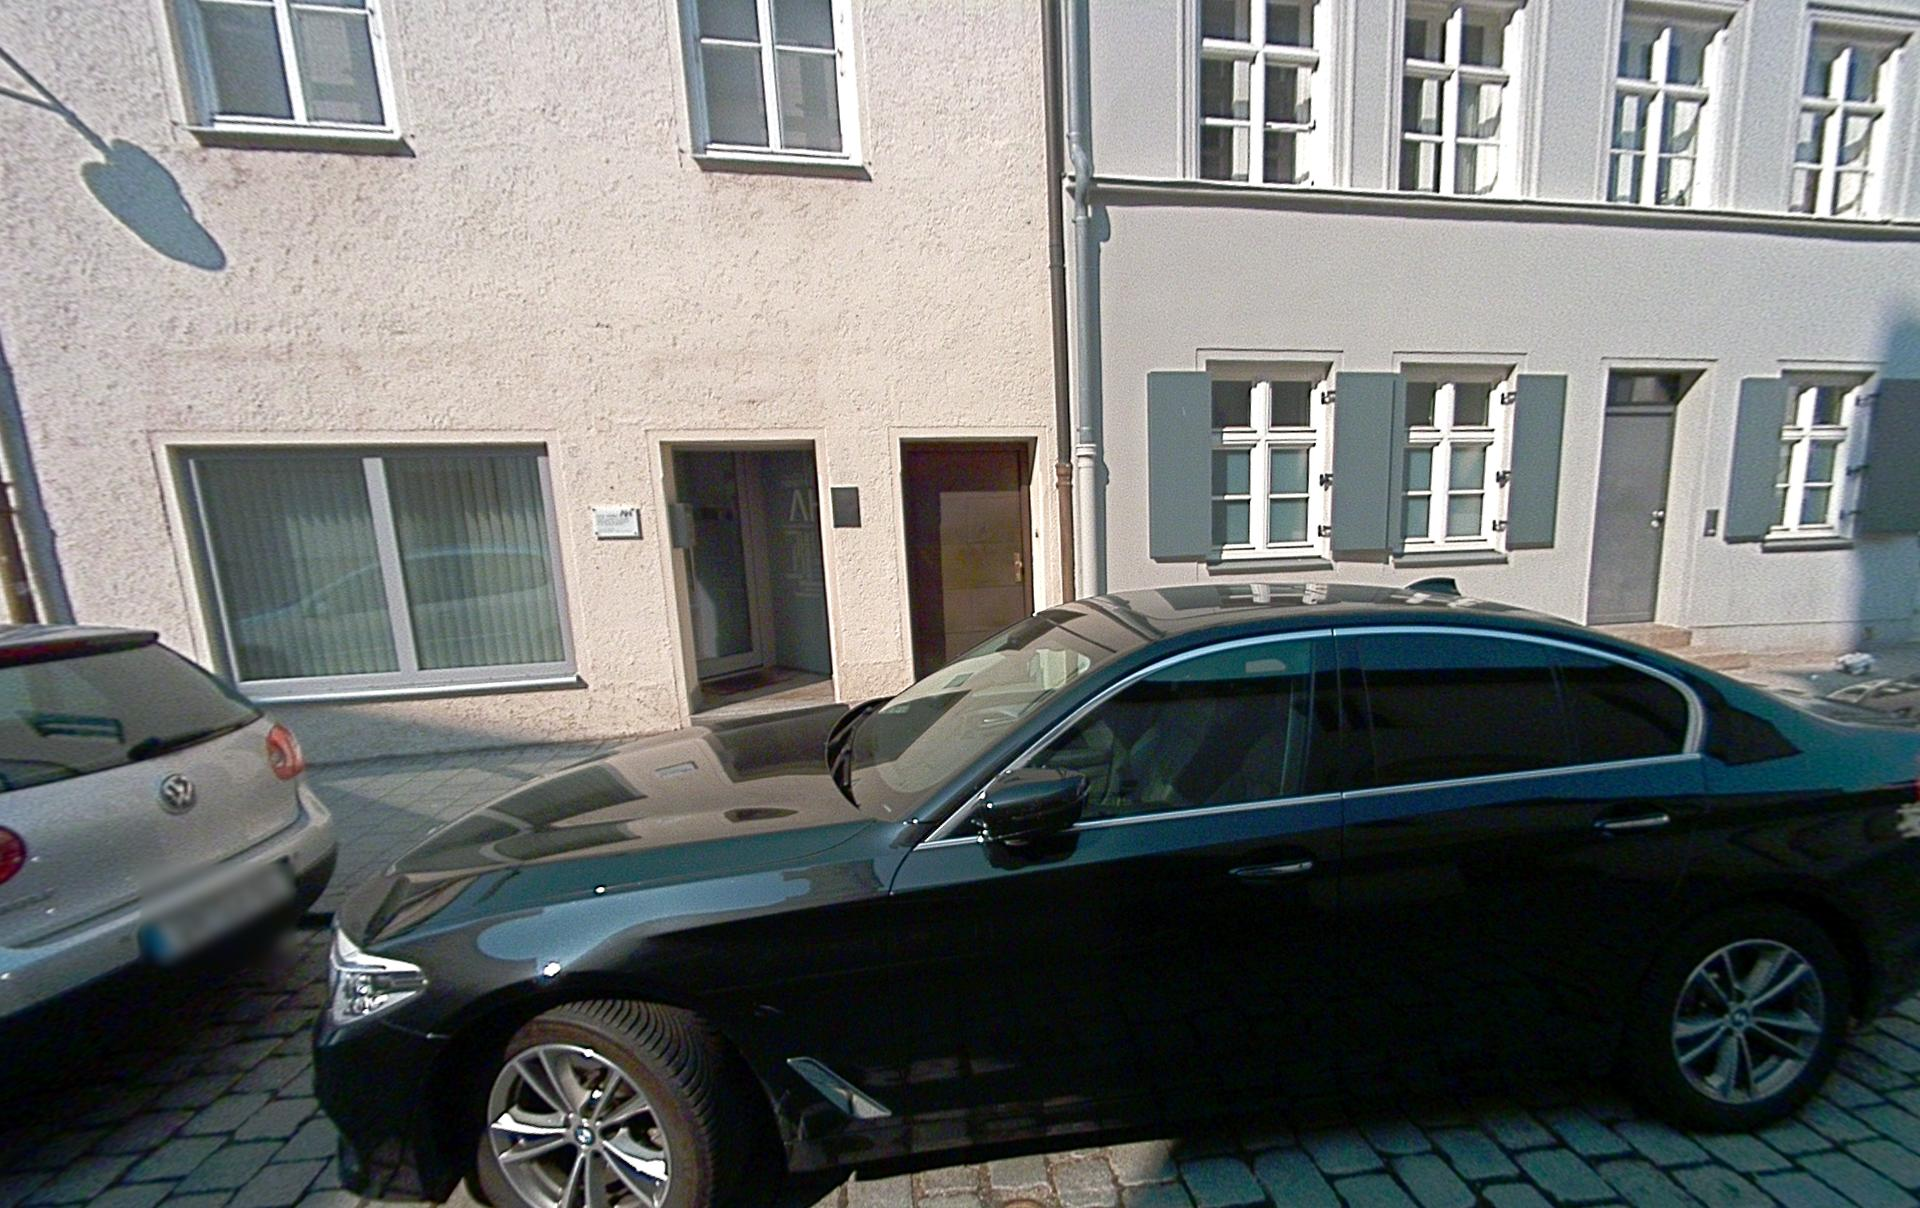car: (312, 575, 1920, 1206), (0, 620, 339, 1026), (230, 542, 554, 661)
